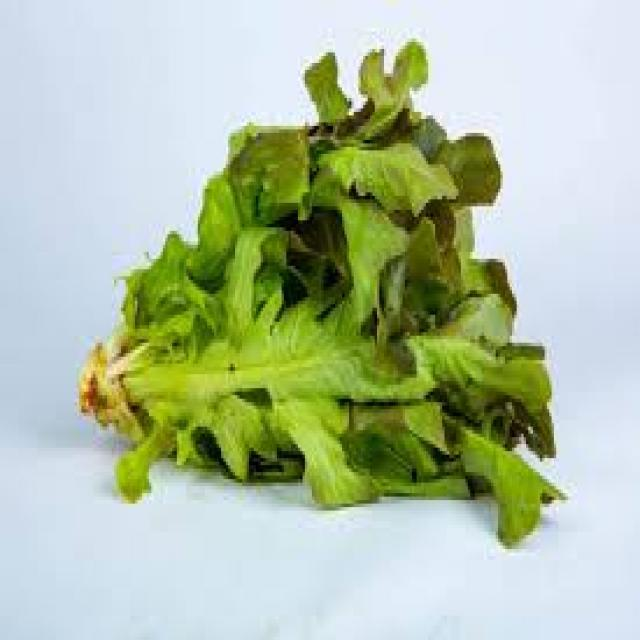Lettuce: (65, 35, 580, 548)
